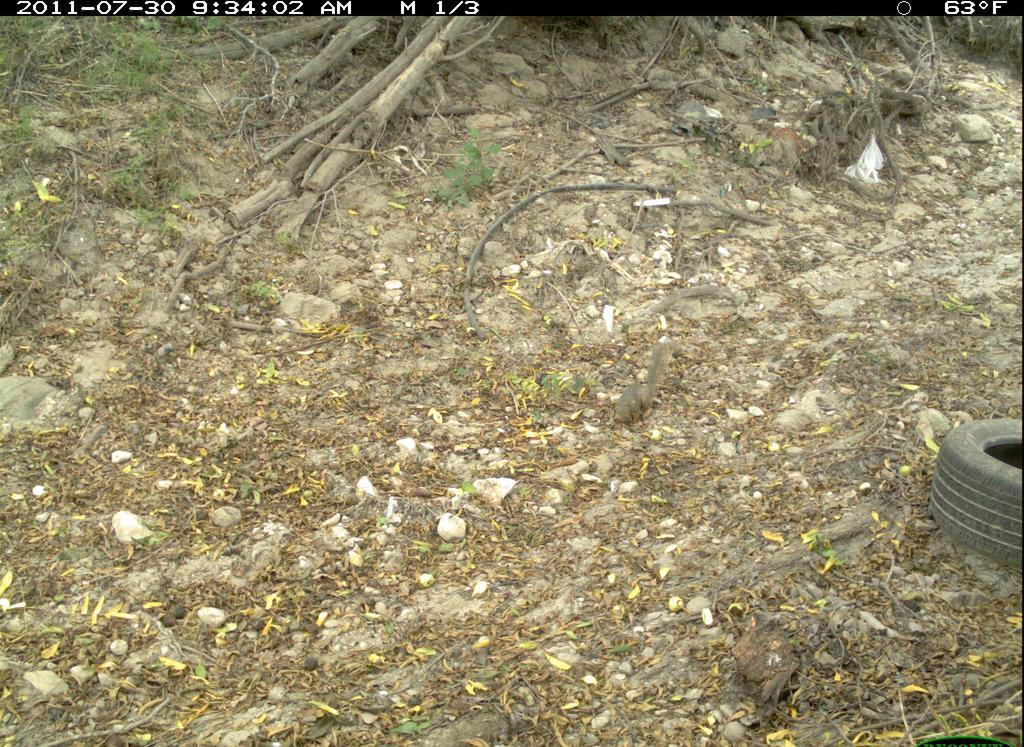squirrel: (596, 327, 690, 433)
